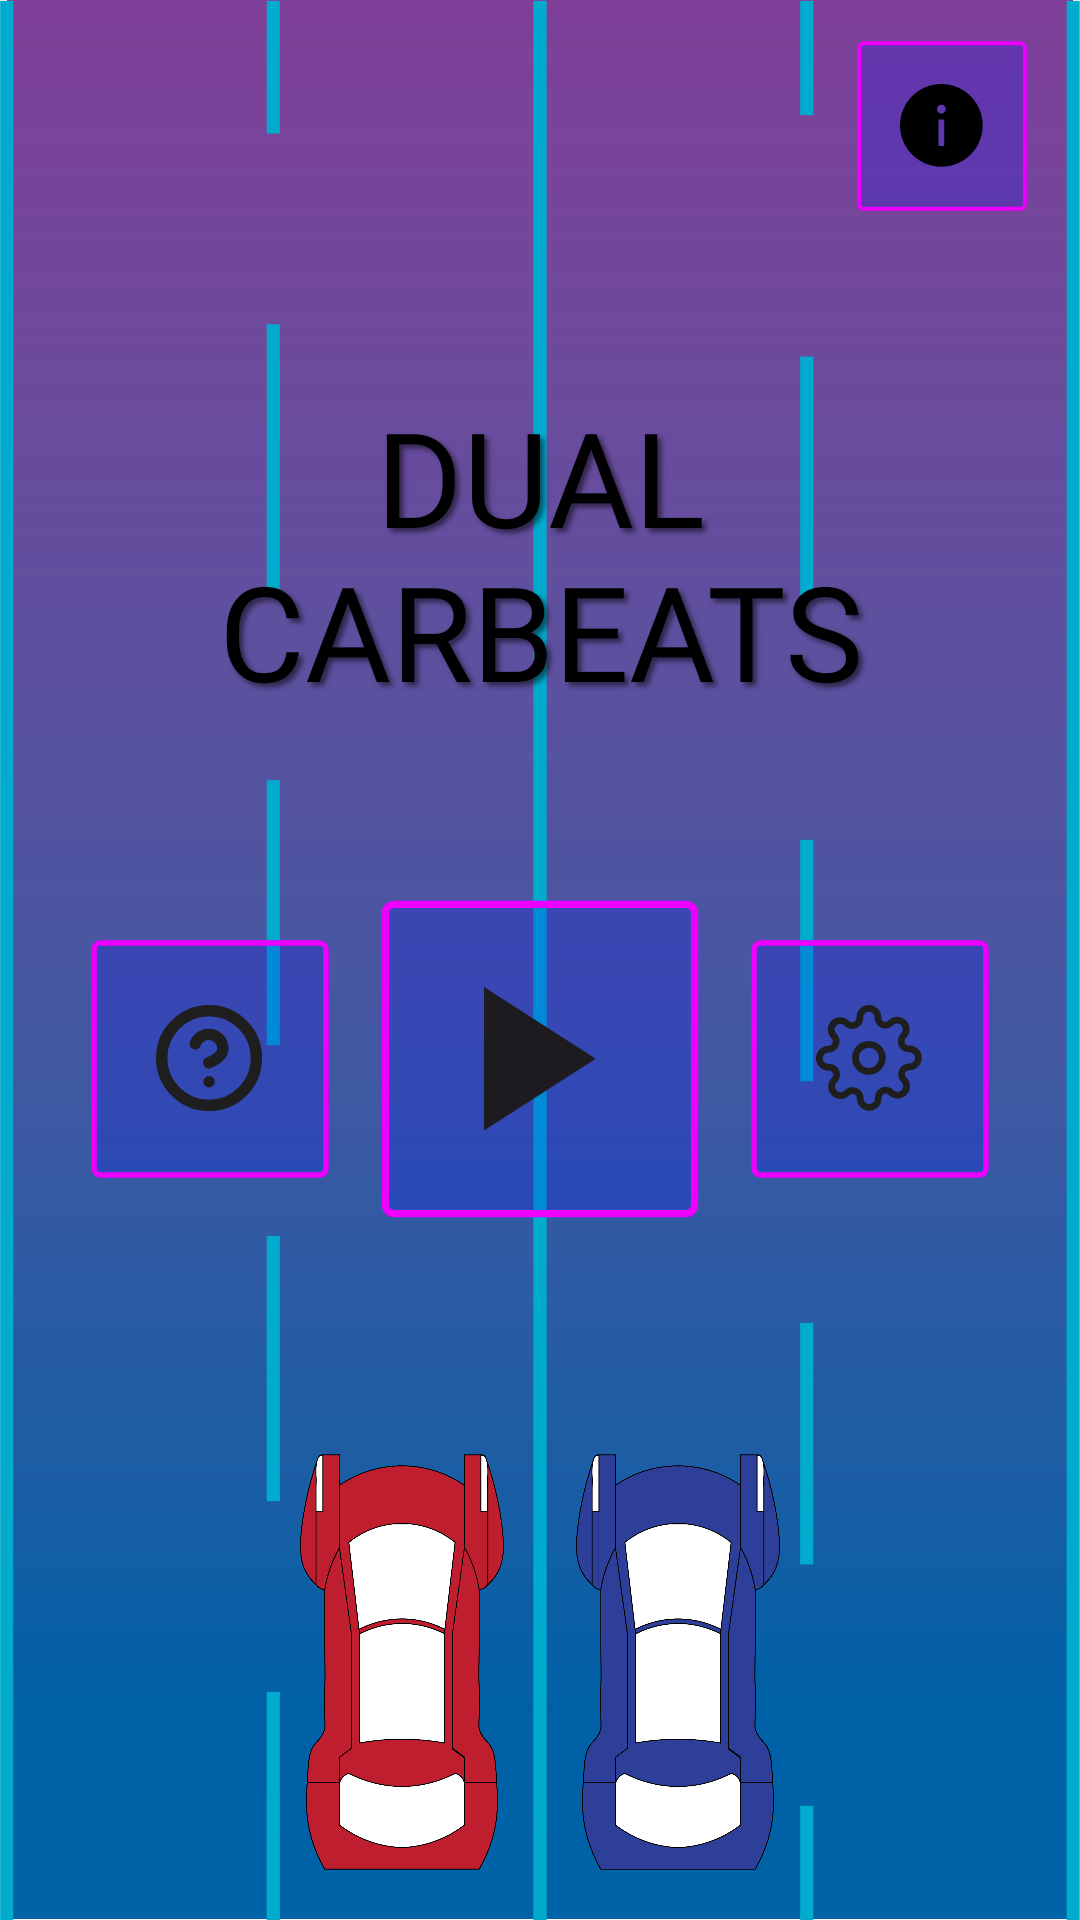

Screen size 1080*1920. Icon name, then its center in pixels as point (x, y):
Help: point (210, 1059)
Info: point (942, 126)
Play: point (540, 1059)
Settings: point (870, 1059)
